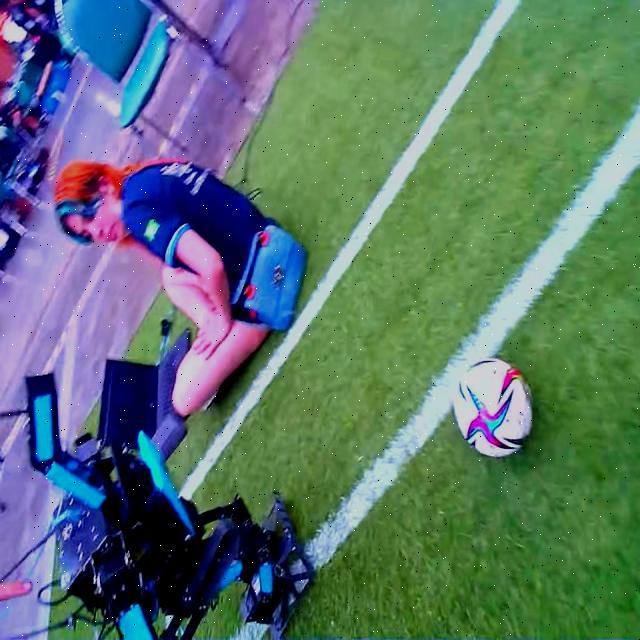ball: (453, 355, 531, 456)
